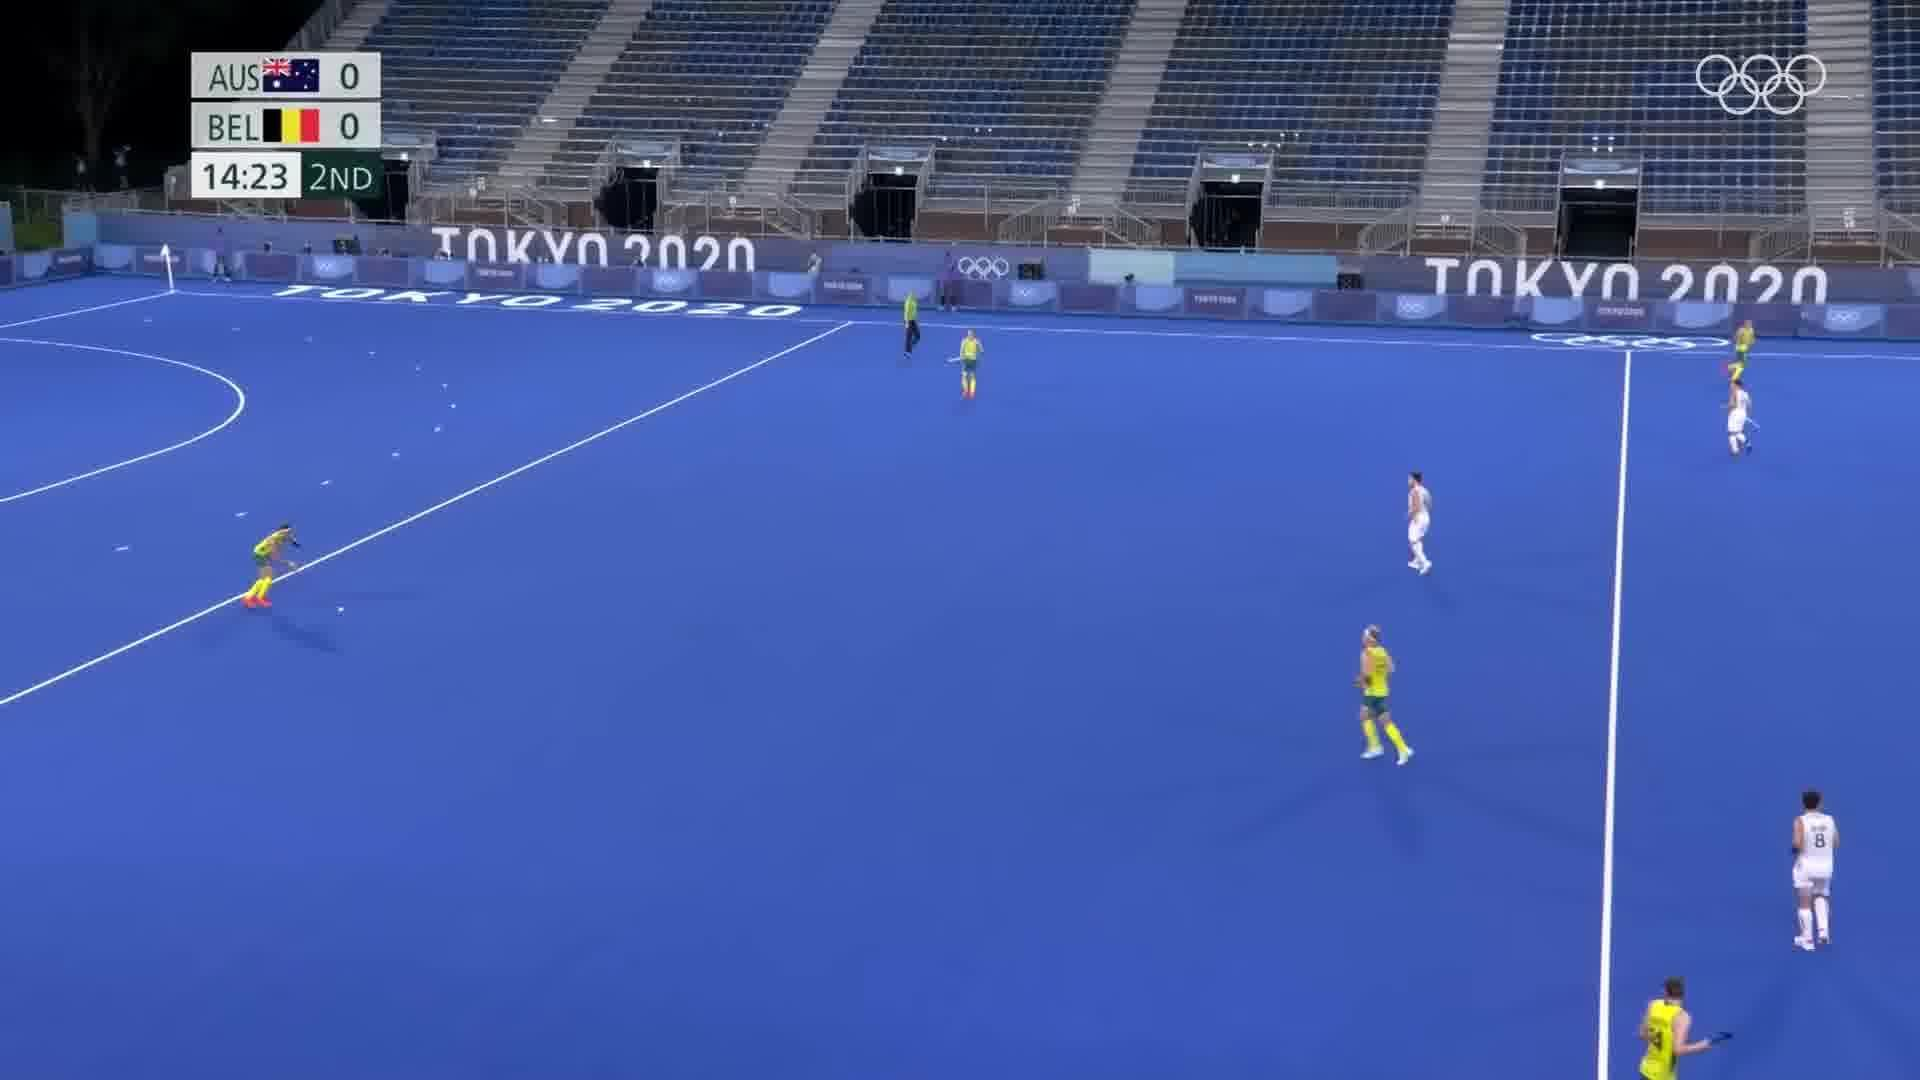ball: (332, 600, 351, 617)
